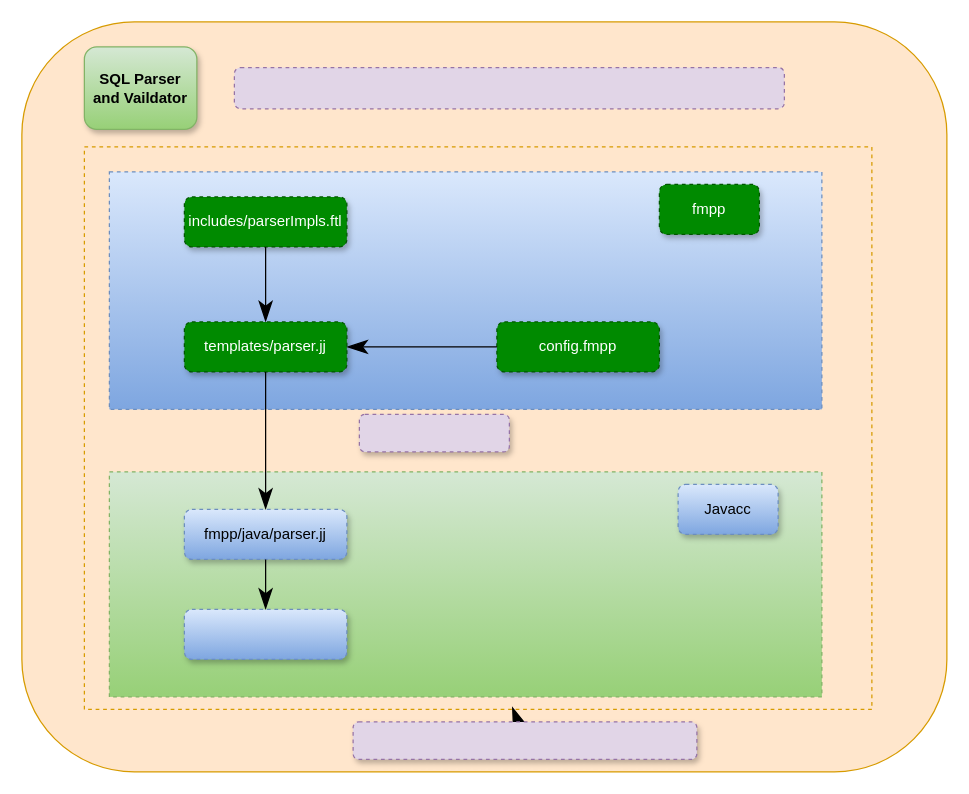
This 969x794 diagram has some shape labels left out. The centre of each missing label's shape, as x and y in pixels:
"Calcite 通过 JavaCC 将SQL 解析成未校验的AST（Abstract Syntax Tree）" belongs at [508,87].
"javacc/*" belongs at [266,635].
"生成Parser.jj" belongs at [435,434].
"生成SQL语句的词法分析和语法解析器（Class）" belongs at [525,742].
